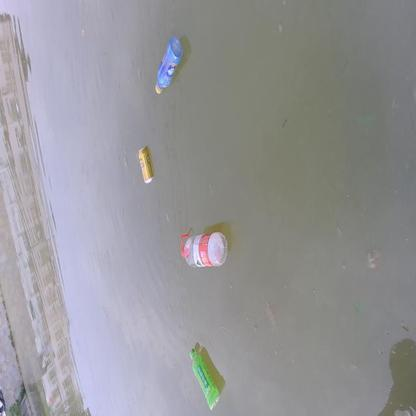can: (138, 144, 154, 182)
plastic bottle: (188, 349, 220, 411), (179, 232, 226, 266), (155, 38, 182, 94)
